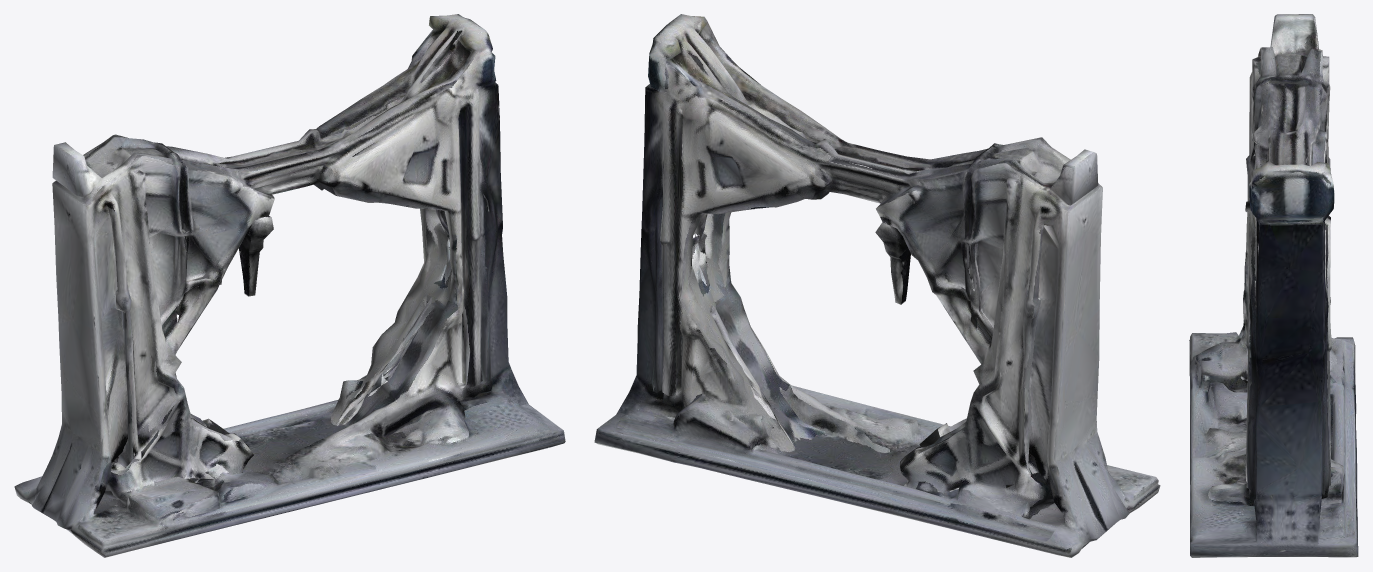
File: ruin-citadel-wall-3.glb
3 views of the same model, side by side, from view 1: azimuth 30°, elevation 25°; view 2: azimuth 150°, elevation 25°; view 3: azimuth 270°, elevation 25° (orthographic). The views are drawn at different scales.
Visible parts, largest first — view 1: ruin-citadel-wall-3.glb; view 2: ruin-citadel-wall-3.glb; view 3: ruin-citadel-wall-3.glb.
Part boxes in pixels (left/top/right/bottom): ruin-citadel-wall-3.glb: left=14, top=14, right=565, bottom=557; ruin-citadel-wall-3.glb: left=594, top=14, right=1160, bottom=557; ruin-citadel-wall-3.glb: left=1189, top=14, right=1358, bottom=557.
Size of the model in its own units: 1 by 0.8084 by 0.3323.
Materials: 1 (1 with a texture image).
